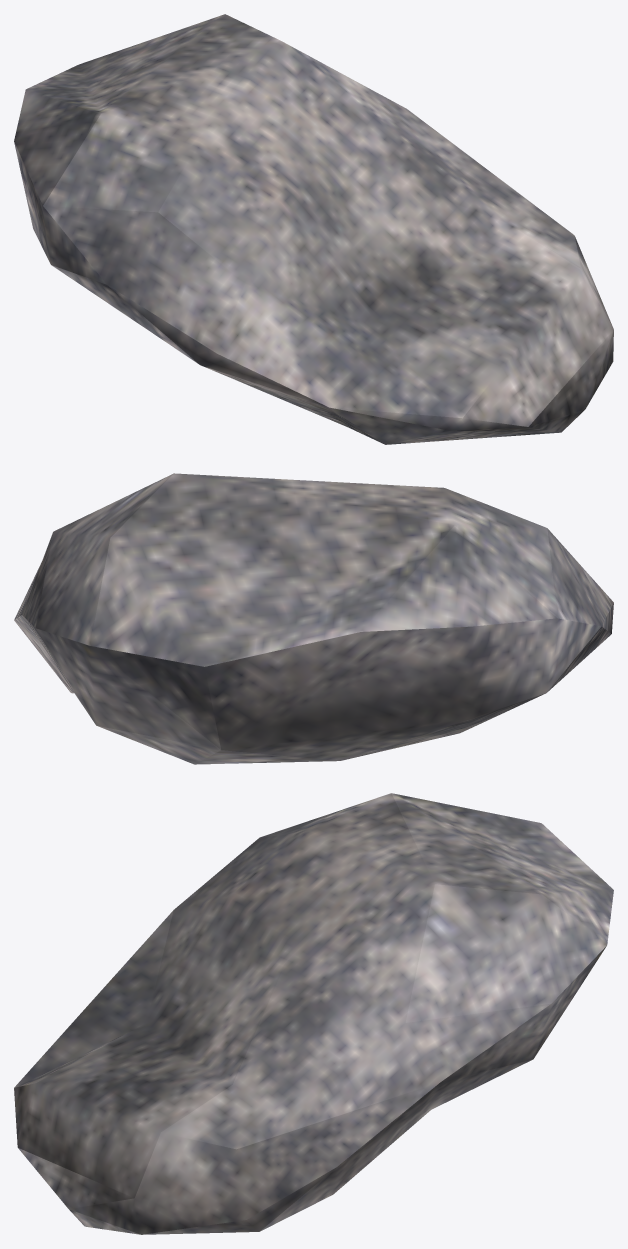
The model's file is Stone4.fbx.
The picture shows the model from 3 angles, top to bottom: view 1: azimuth 30°, elevation 25°; view 2: azimuth 150°, elevation 25°; view 3: azimuth 270°, elevation 25°; orthographic projection. The views are drawn at different scales.
Parts seen in each view (by area): view 1: Stone_4; view 2: Stone_4; view 3: Stone_4.
Part boxes in pixels (x1,y1,x2,y2): Stone_4: [14, 14, 613, 444]; Stone_4: [14, 473, 613, 764]; Stone_4: [14, 793, 613, 1234].
Bounding box in the file's own units: 47.33 × 28.3 × 51.61.
